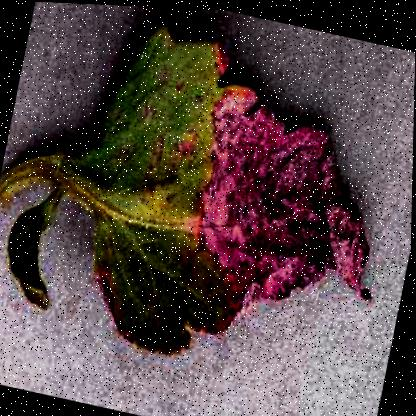BACTERIAL SPOT: (0, 0, 415, 406)
